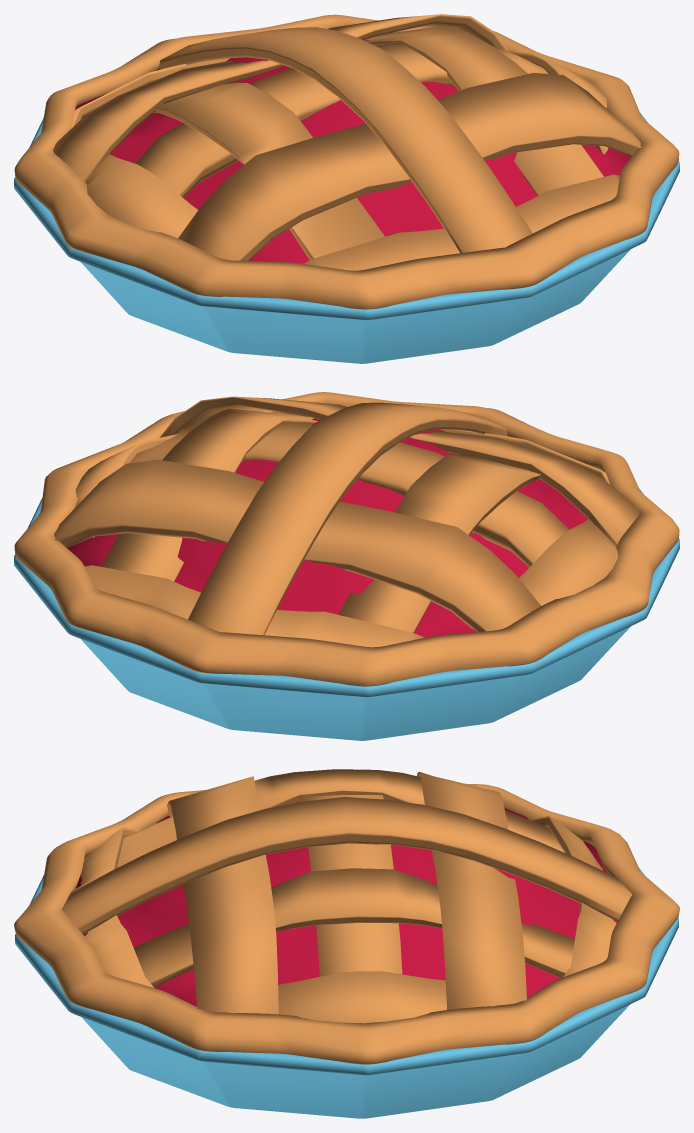
File: pie.fbx
3 views of the same model, one above another, from view 1: azimuth 30°, elevation 25°; view 2: azimuth 150°, elevation 25°; view 3: azimuth 270°, elevation 25° (orthographic).
Parts seen in each view (by area): view 1: TARTE; view 2: TARTE; view 3: TARTE.
Part boxes in pixels (x1,y1,x2,y2): TARTE: [14, 14, 679, 363]; TARTE: [14, 392, 679, 740]; TARTE: [14, 769, 679, 1118].
Size of the model in its own units: 360 by 116 by 360.
